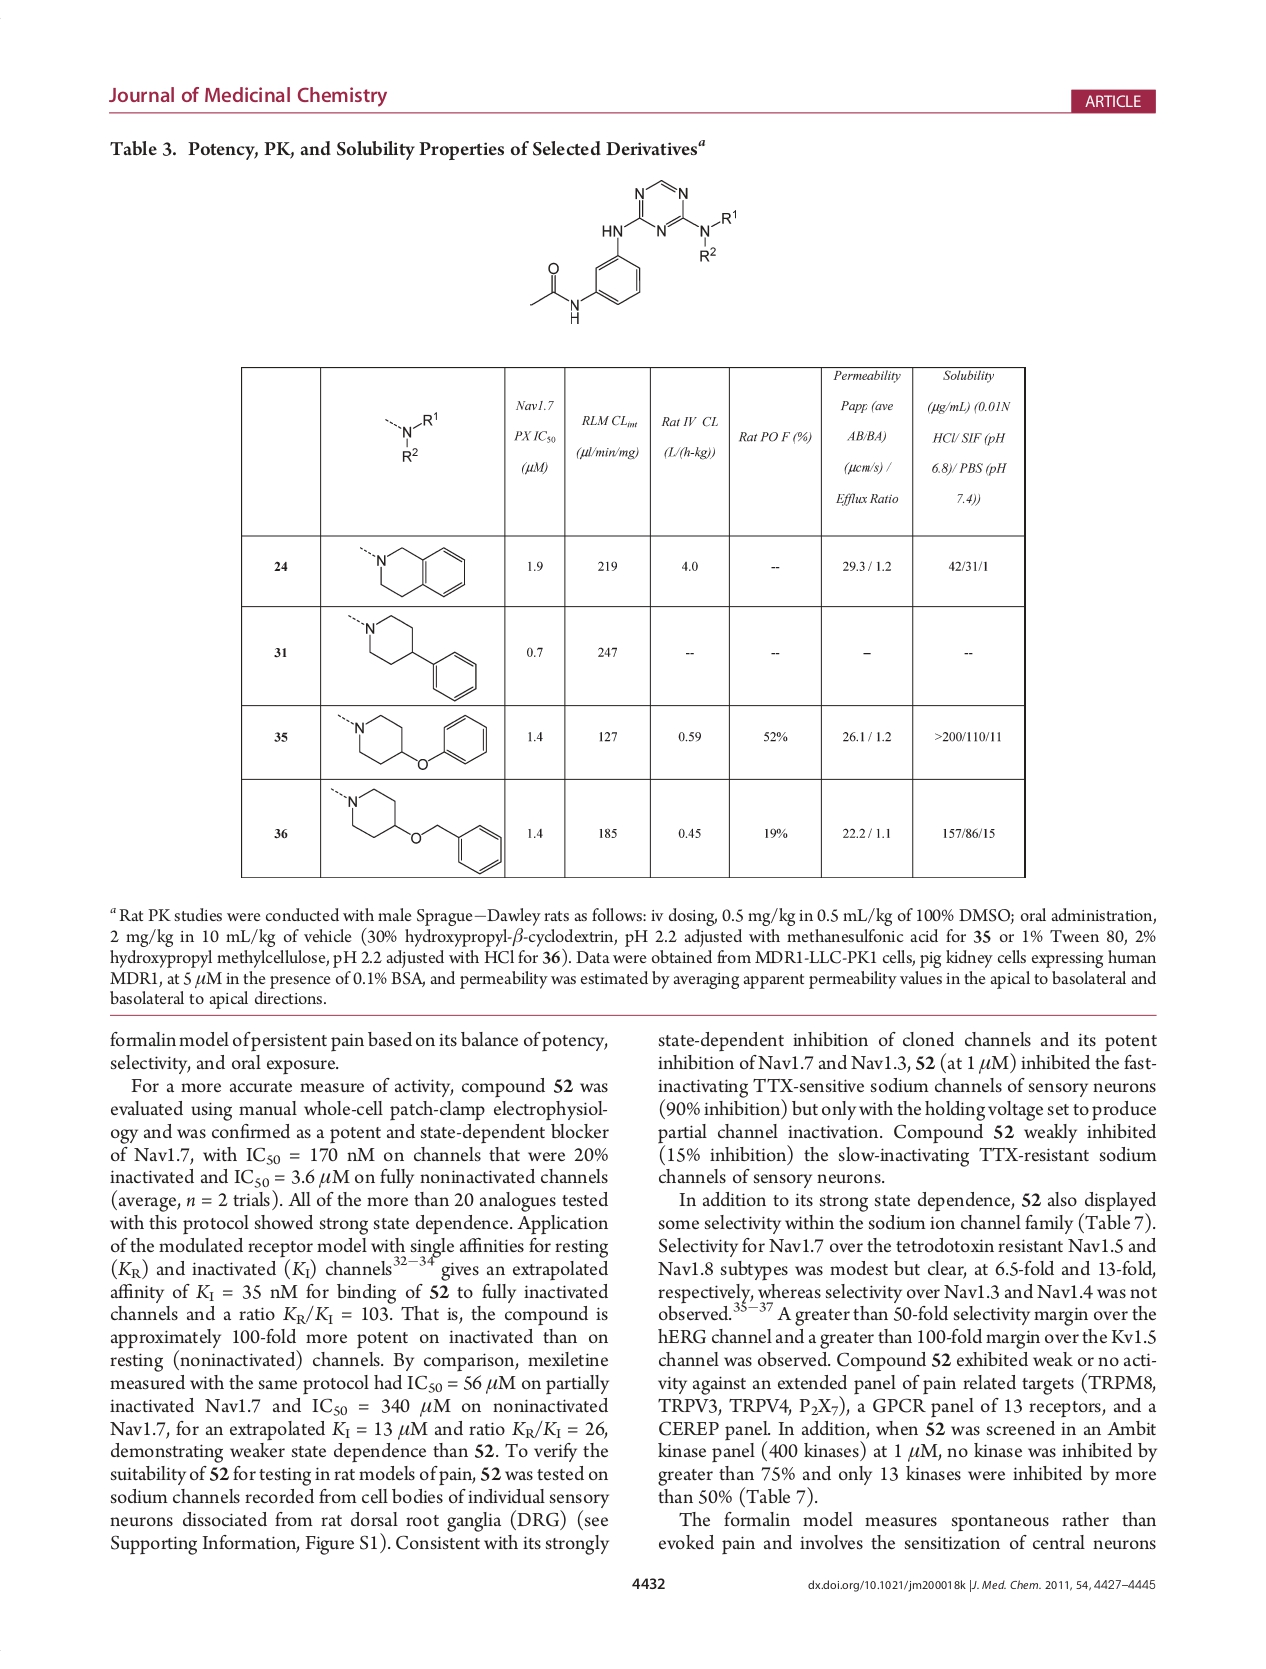exist_molecular: (527, 177, 737, 327), (328, 786, 505, 876), (343, 612, 481, 702), (334, 710, 489, 770), (356, 543, 469, 598)
